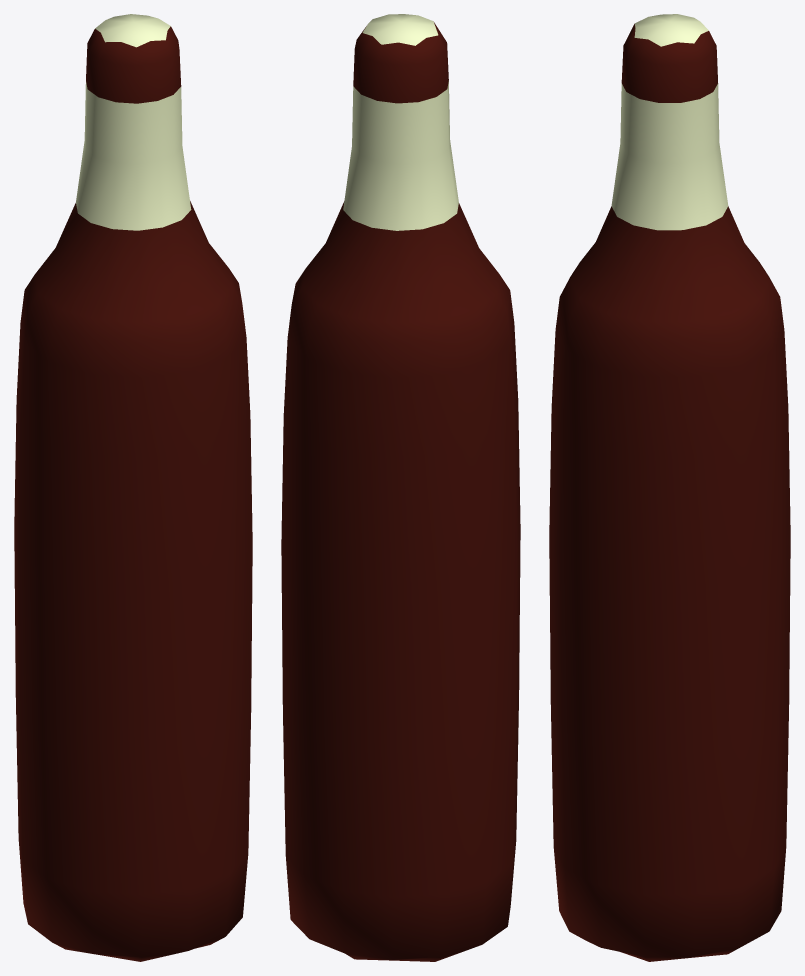
File: Bottle_2.fbx
3 views of the same model, side by side, from view 1: azimuth 30°, elevation 25°; view 2: azimuth 150°, elevation 25°; view 3: azimuth 270°, elevation 25° (orthographic).
Parts seen in each view (by area): view 1: Bottle_2; view 2: Bottle_2; view 3: Bottle_2.
Boxes of the visible parts, x1=… form: Bottle_2: x1=14, y1=14, x2=252, y2=961; Bottle_2: x1=281, y1=14, x2=520, y2=961; Bottle_2: x1=549, y1=14, x2=790, y2=961.
Bounding box in the file's own units: 10.33 × 43.75 × 10.58.
